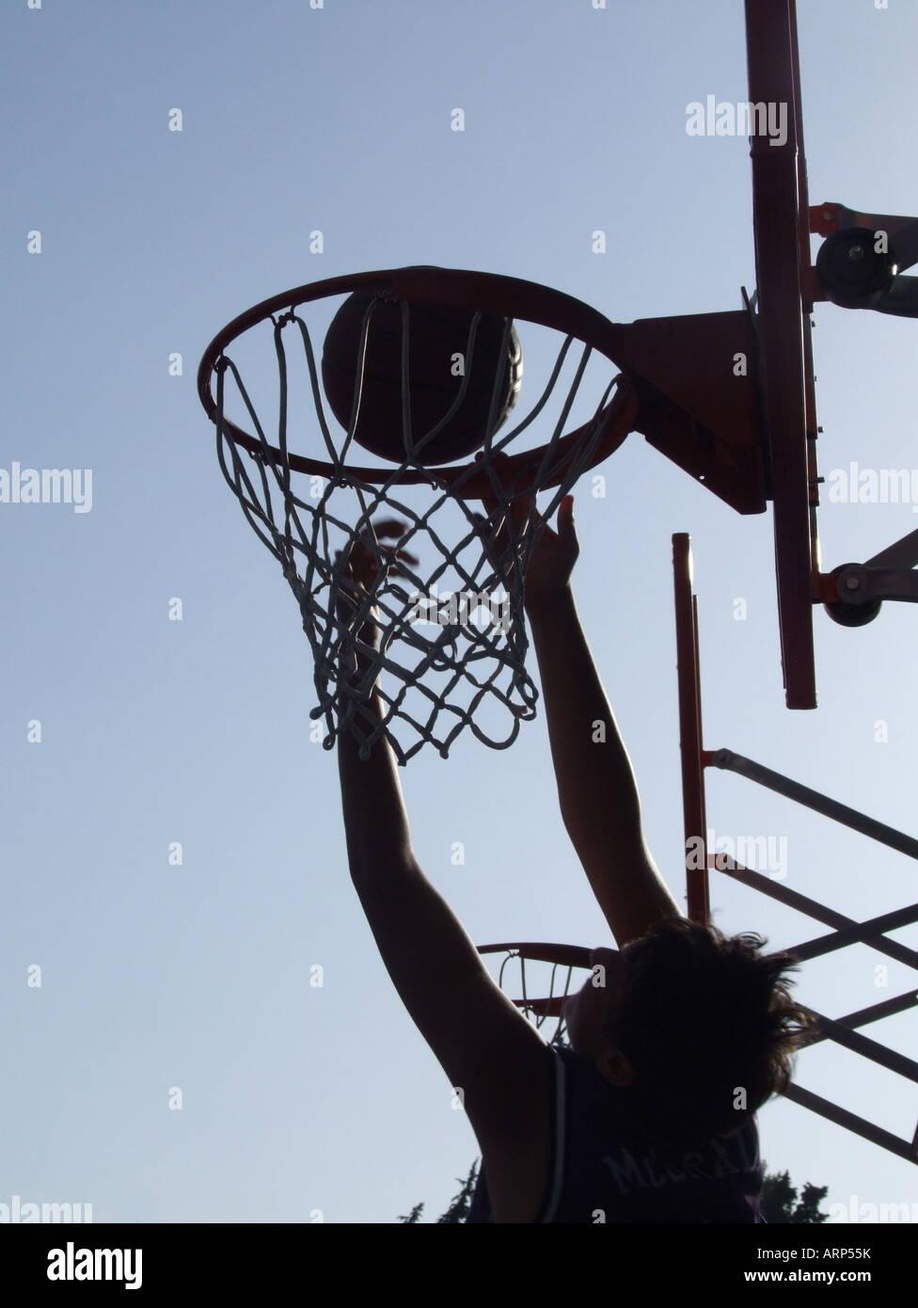basketball: (329, 262, 519, 465)
